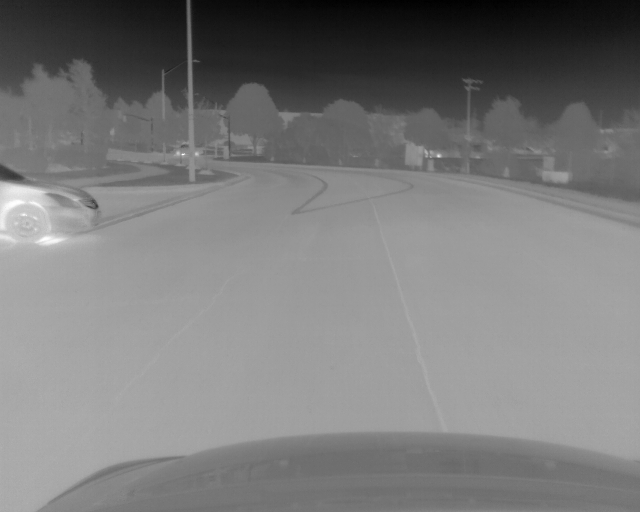car: (1, 163, 101, 243), (173, 142, 199, 158)
